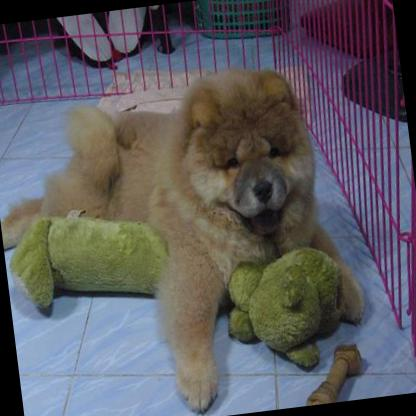chow: (0, 54, 374, 416)
